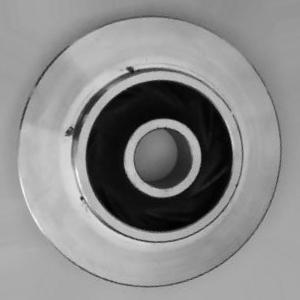defect: (57, 54, 140, 219)
